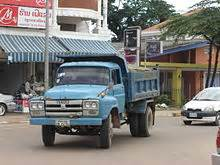truck: (29, 54, 158, 146)
